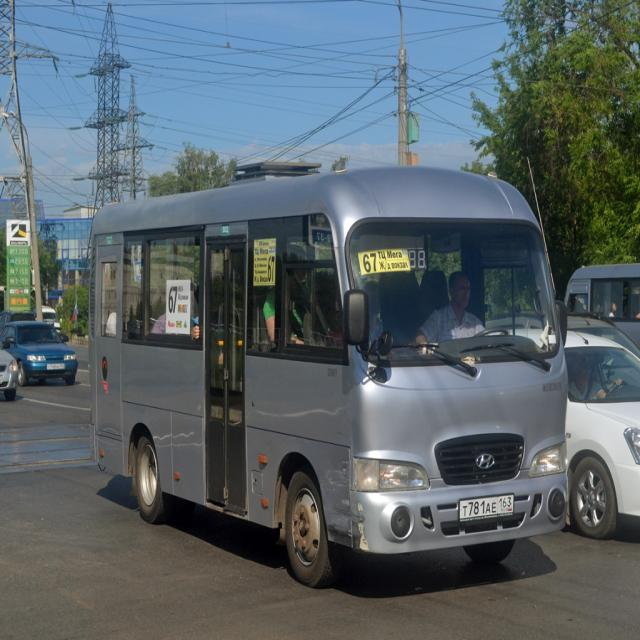number-of-bus: (168, 285, 179, 315), (363, 253, 379, 273), (269, 256, 275, 283)
